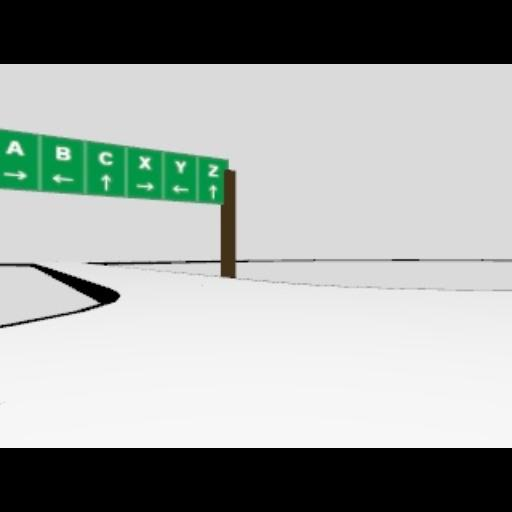A: (6, 139, 26, 157)
B: (54, 144, 74, 162)
C: (98, 150, 114, 166)
Left: (52, 173, 74, 185), (172, 183, 190, 195)
Right: (2, 168, 28, 182), (135, 180, 155, 192)
Straight: (100, 173, 112, 193), (207, 183, 219, 201)
X: (138, 154, 152, 172)
Y: (174, 160, 188, 174)
Z: (208, 163, 220, 179)
